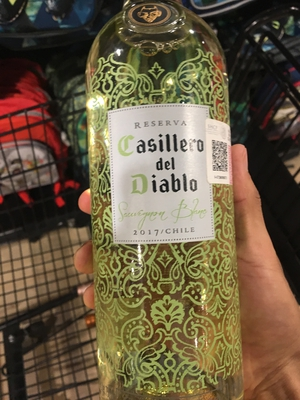casillero del diablo sauvignon blanc: (78, 6, 255, 400)
